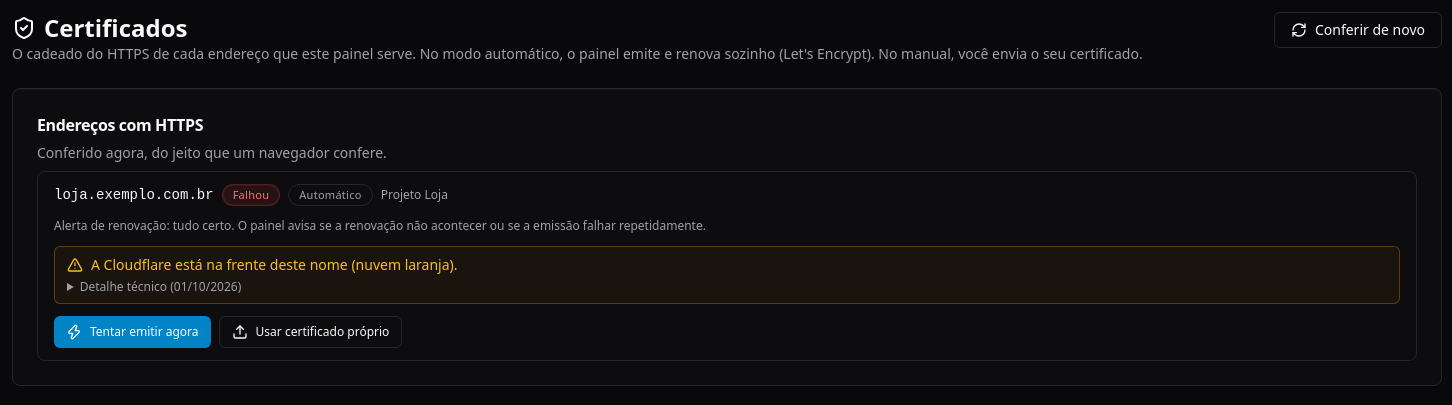
Test: CertificatesPage — Tentar emitir agora › um clique: pede a emissão e acompanha até ficar válido
Click the button "Tentar emitir agora" at (132, 332), box [54,316,211,348]
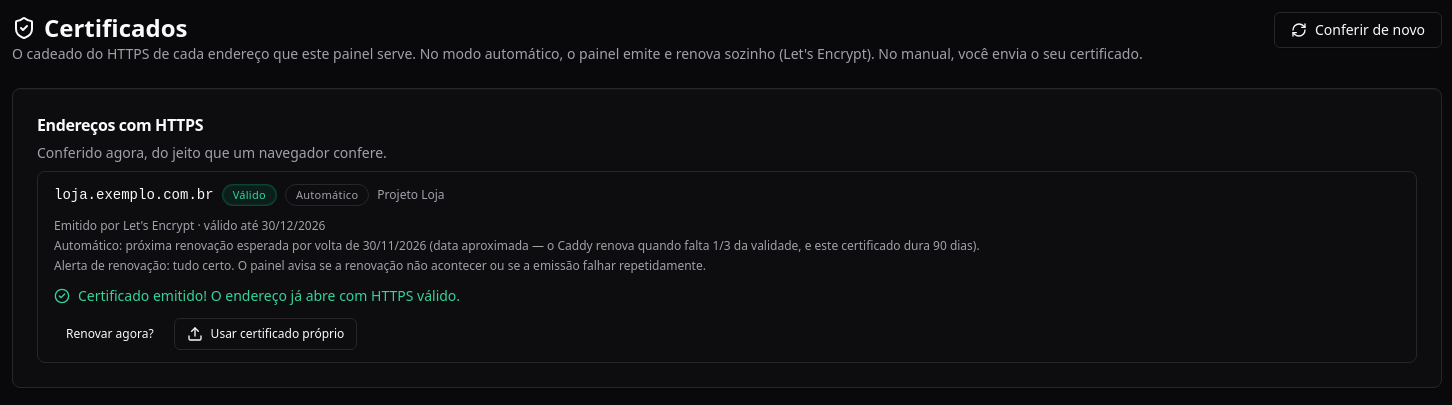
Result: the text "Certificado emitido! O endereço já abre com HTTPS válido." is shown at [54,286,460,305]
Result: the text "Válido" is shown at [222,184,277,206]
